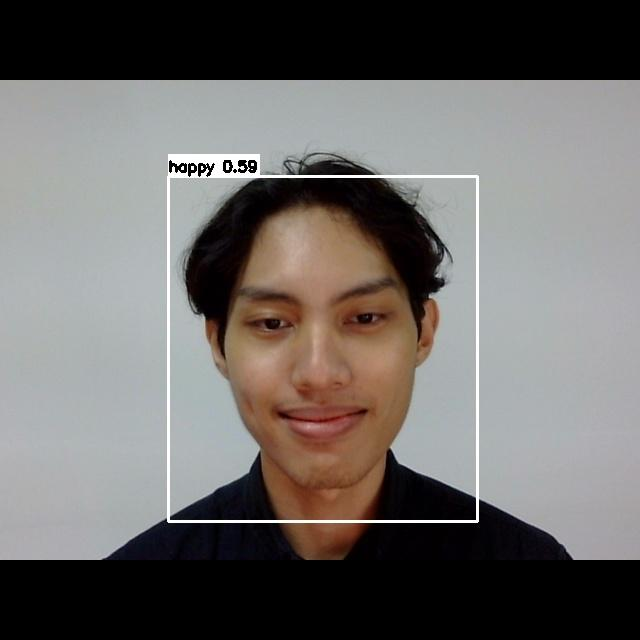Happy: (213, 265, 421, 464)
